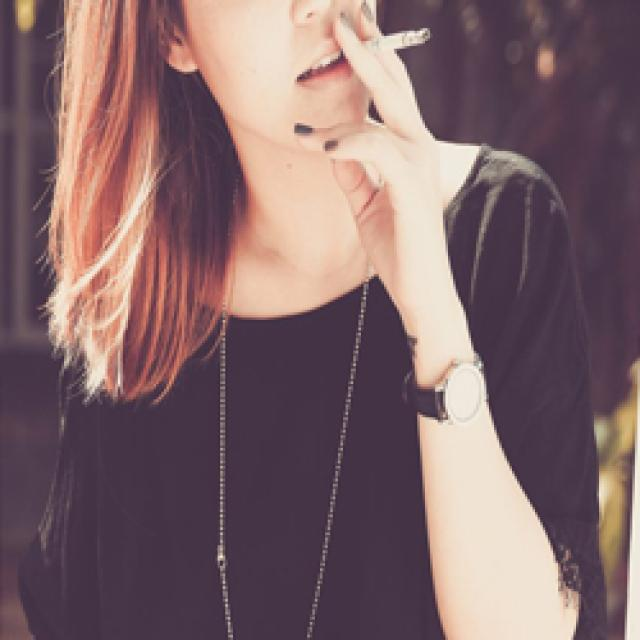Smooking: (366, 15, 448, 58)
